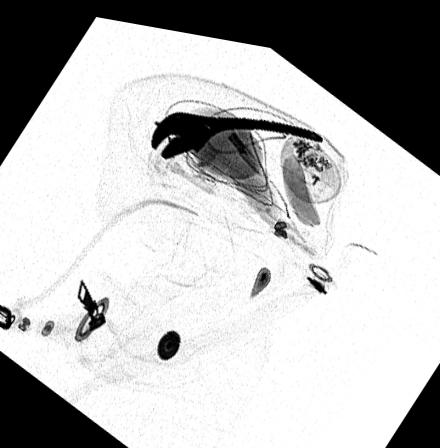Wrench: (151, 101, 322, 152)
